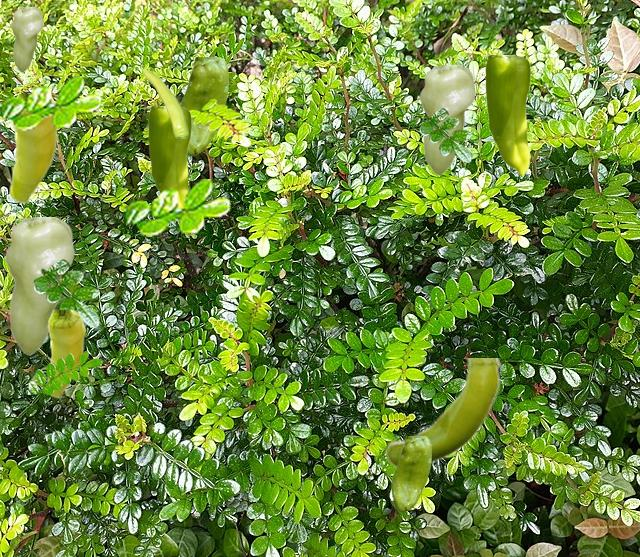green_chili: (384, 358, 501, 467), (4, 217, 73, 354), (419, 65, 474, 174), (8, 94, 59, 203), (483, 55, 529, 175), (180, 57, 227, 155), (146, 106, 190, 207), (45, 310, 85, 397), (142, 67, 187, 137), (391, 436, 430, 511), (10, 7, 42, 71)
